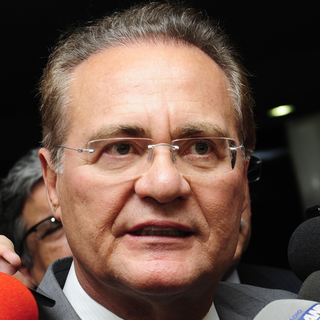eye: (98, 139, 146, 162), (173, 138, 219, 161)
